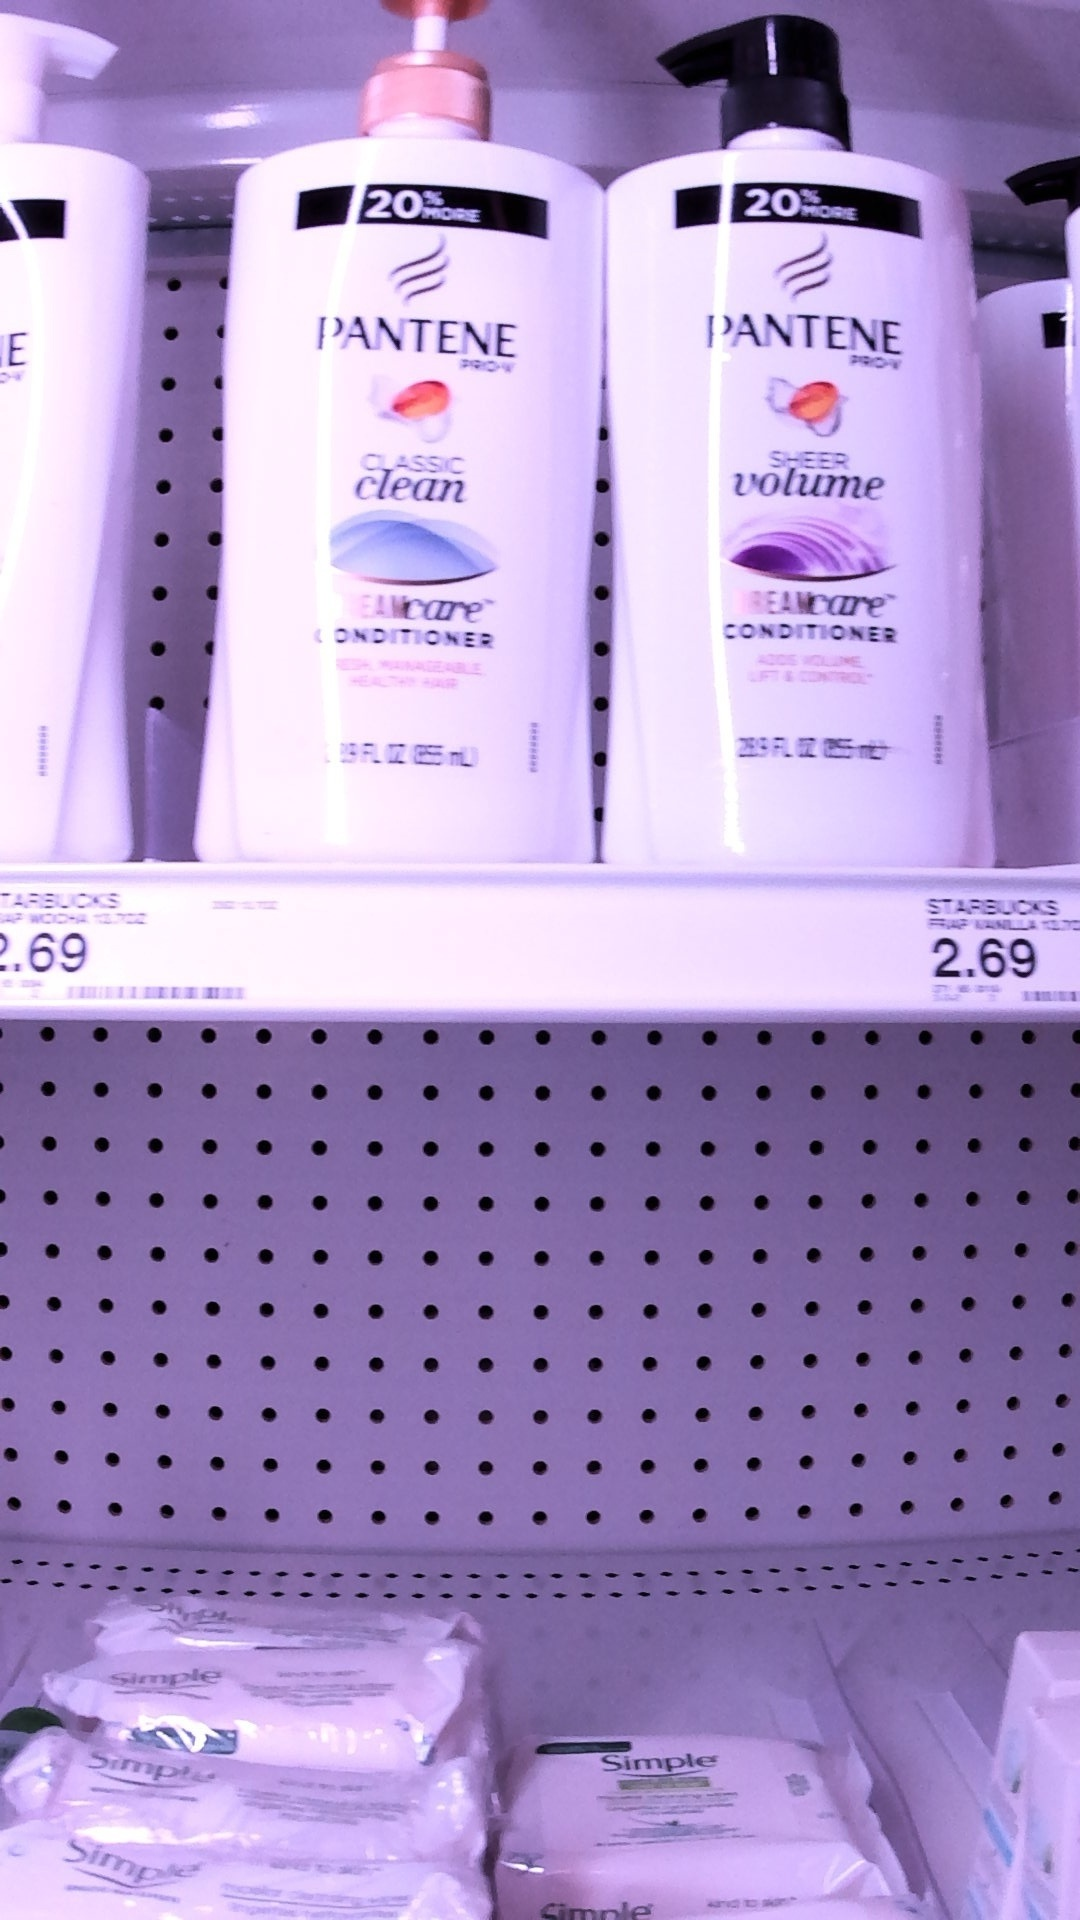ptag: (1, 872, 301, 1014), (909, 876, 1080, 1009)
